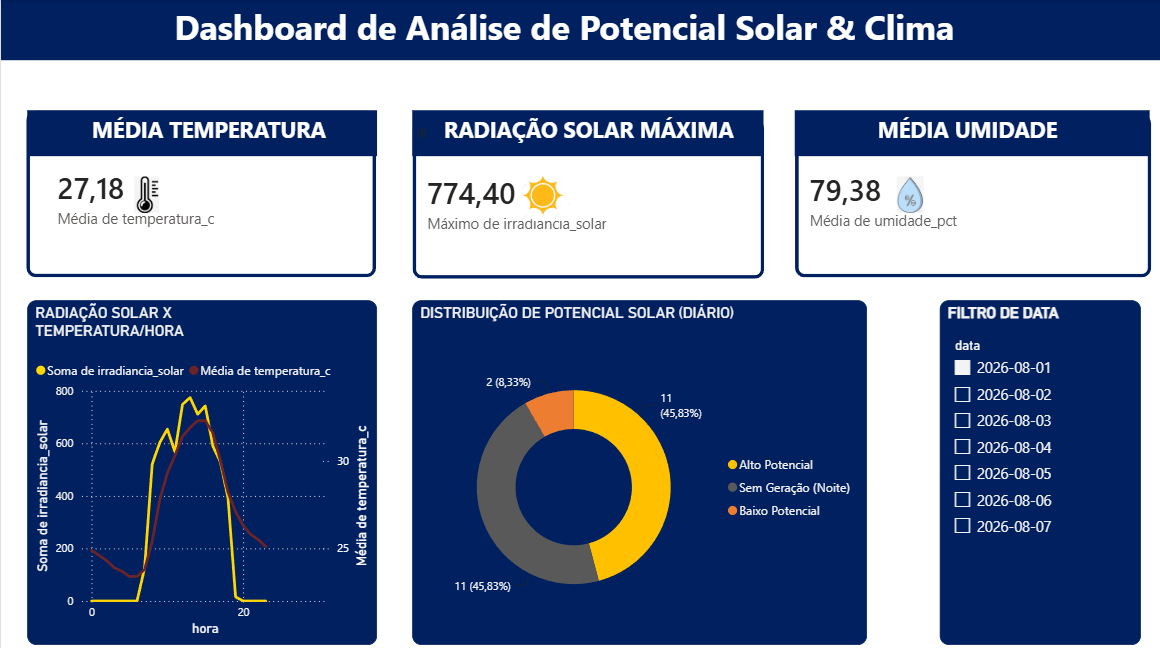

What the dashboard file says about the page in this screenshot:
{"tool":"powerbi","page":{"name":"Página 1","canvas":[1280,720],"ordinal":0},"visuals":[{"type":"textbox","box":[9.6,0,1270.7,68.6],"z":0},{"type":"cardVisual","fields":{"Data":["Max(dados_clima_energia.irradiancia_solar)"]},"box":[434.4,114.7,420.1,209.3],"z":1000},{"type":"lineChart","title":"RADIAÇÃO SOLAR X TEMPERATURA/HORA","fields":{"Category":["dados_clima_energia.hora"],"Y":["Sum(dados_clima_energia.irradiancia_solar)"],"Y2":["Avg(dados_clima_energia.temperatura_c)"]},"box":[28.7,331.2,384.2,378.5],"z":2000},{"type":"donutChart","title":"DISTRIBUIÇÃO DE POTENCIAL SOLAR (DIÁRIO)","fields":{"Category":["dados_clima_energia.status_geracao_solar"],"Y":["Count(dados_clima_energia.hora)"]},"box":[451.6,331.2,498.9,378.5],"z":3000},{"type":"slicer","title":"FILTRO DE DATA","fields":{"Values":["dados_clima_energia.data"]},"box":[1030.8,331.2,220.8,378.5],"z":4000},{"type":"cardVisual","fields":{"Data":["Avg(dados_clima_energia.temperatura_c)"]},"box":[11.5,106.1,418.6,217.9],"z":5000},{"type":"cardVisual","fields":{"Data":["Avg(dados_clima_energia.umidade_pct)"]},"box":[854.5,110.4,425.8,213.6],"z":6000},{"type":"textbox","box":[28.7,121.9,384.2,50.2],"z":7000},{"type":"textbox","box":[451.6,121.9,385.7,50.2],"z":8000},{"type":"textbox","box":[871.7,121.9,390,50.2],"z":9000},{"type":"image","box":[566.3,176.3,57.3,78.9],"z":10000},{"type":"image","box":[976.3,195,43,40.1],"z":11000},{"type":"image","box":[136.2,195,47.3,40.1],"z":12000}]}

Visuals, with their boxes in screenshot pixels (x1, y1, x2, y2), scaled from the page's 1280x720 canvas onto the 1160x648 screenshot:
textbox: (9,0,1159,62)
cardVisual - Max(dados_clima_energia.irradiancia_solar): (394,103,774,292)
"RADIAÇÃO SOLAR X TEMPERATURA/HORA" lineChart: (26,298,374,639)
"DISTRIBUIÇÃO DE POTENCIAL SOLAR (DIÁRIO)" donutChart: (409,298,861,639)
"FILTRO DE DATA" slicer: (934,298,1134,639)
cardVisual - Avg(dados_clima_energia.temperatura_c): (10,95,390,292)
cardVisual - Avg(dados_clima_energia.umidade_pct): (774,99,1159,292)
textbox: (26,110,374,155)
textbox: (409,110,759,155)
textbox: (790,110,1143,155)
image: (513,159,565,230)
image: (885,176,924,212)
image: (123,176,166,212)
